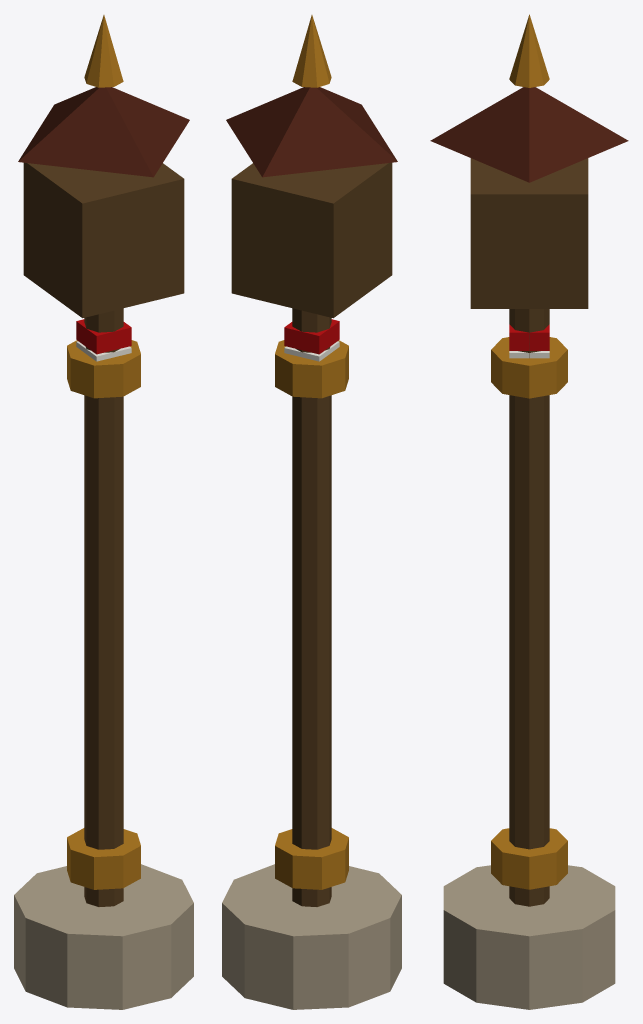
Rendered from Lentera.obj.
The picture shows the model from 3 angles, left to right: view 1: azimuth 30°, elevation 25°; view 2: azimuth 150°, elevation 25°; view 3: azimuth 270°, elevation 25°; orthographic projection.
Parts seen in each view (by area): view 1: LAMP_FRAME, BASE, POLE, CAP, COLLAR_0.28, COLLAR_1.48, FINIAL, BAND_RED; view 2: LAMP_FRAME, BASE, POLE, CAP, COLLAR_0.28, COLLAR_1.48, FINIAL, BAND_RED; view 3: BASE, POLE, LAMP_FRAME, CAP, COLLAR_0.28, COLLAR_1.48, FINIAL, BAND_RED.
Part boxes in pixels (x1=…): LAMP_FRAME: x1=23, y1=162, x2=184, y2=318; BASE: x1=14, y1=864, x2=193, y2=1009; POLE: x1=84, y1=308, x2=123, y2=906; CAP: x1=18, y1=87, x2=189, y2=177; COLLAR_0.28: x1=67, y1=828, x2=140, y2=889; COLLAR_1.48: x1=67, y1=340, x2=140, y2=398; FINIAL: x1=84, y1=15, x2=123, y2=87; BAND_RED: x1=76, y1=319, x2=131, y2=354; LAMP_FRAME: x1=231, y1=162, x2=392, y2=318; BASE: x1=222, y1=864, x2=401, y2=1009; POLE: x1=292, y1=308, x2=331, y2=906; CAP: x1=226, y1=87, x2=397, y2=177; COLLAR_0.28: x1=275, y1=828, x2=348, y2=889; COLLAR_1.48: x1=275, y1=340, x2=348, y2=398; FINIAL: x1=292, y1=15, x2=331, y2=87; BAND_RED: x1=284, y1=319, x2=339, y2=354; BASE: x1=443, y1=865, x2=615, y2=1009; POLE: x1=509, y1=309, x2=549, y2=906; LAMP_FRAME: x1=470, y1=158, x2=588, y2=308; CAP: x1=430, y1=87, x2=628, y2=182; COLLAR_0.28: x1=491, y1=828, x2=567, y2=889; COLLAR_1.48: x1=491, y1=337, x2=567, y2=398; FINIAL: x1=509, y1=14, x2=549, y2=87; BAND_RED: x1=509, y1=324, x2=549, y2=350.
Size of the model in its own units: 0.44 by 2.34 by 0.44.
